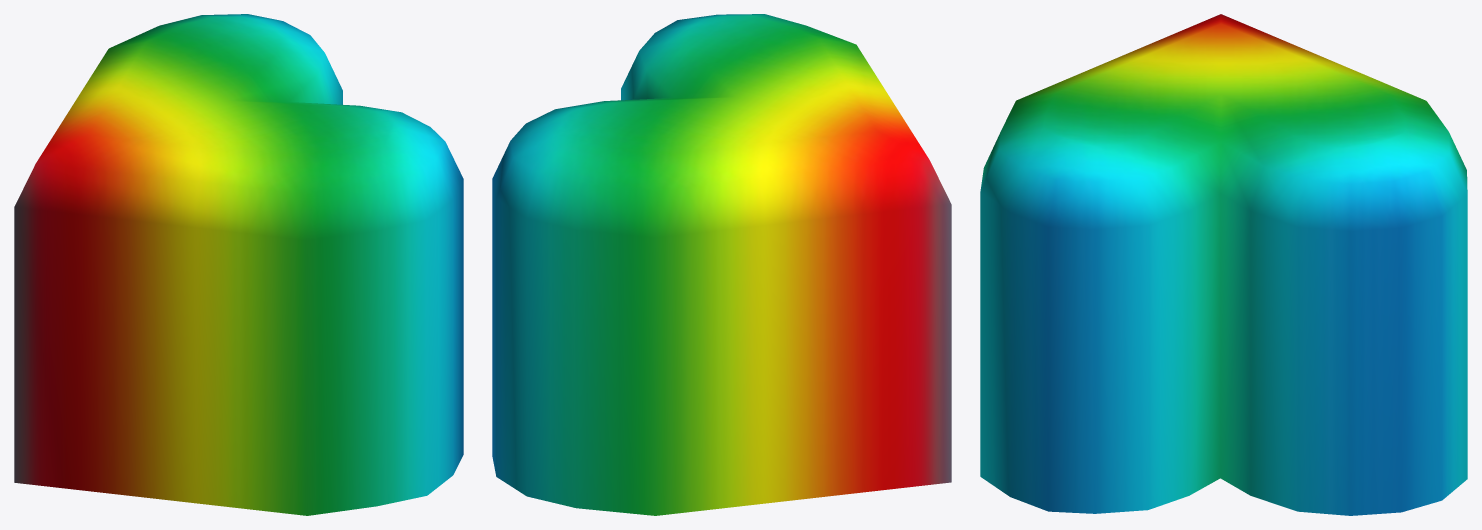
Rendered from model_BurbleHeart.fbx.
3 renders of one model, left to right at view 1: azimuth 30°, elevation 25°; view 2: azimuth 150°, elevation 25°; view 3: azimuth 270°, elevation 25°, orthographic. The views are drawn at different scales.
Parts seen in each view (by area): view 1: model_BurbleHeart; view 2: model_BurbleHeart; view 3: model_BurbleHeart.
Boxes of the visible parts, box(x1,y1,x2,y2) form: model_BurbleHeart: box(14, 14, 463, 515); model_BurbleHeart: box(492, 14, 951, 515); model_BurbleHeart: box(980, 14, 1467, 515).
Bounding box in the file's own units: 38.23 × 32.33 × 41.72.
